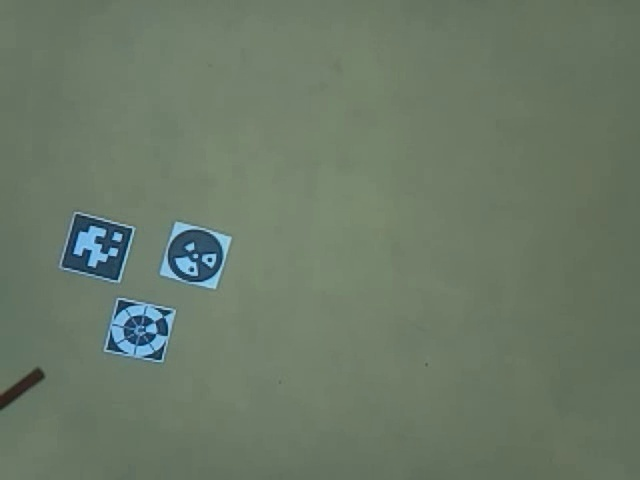landing-zone: (102, 297, 177, 363)
